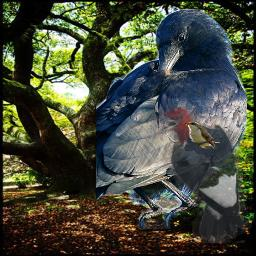Crow: (96, 9, 247, 229)
Cuckoo: (183, 119, 220, 149)
Woodpecker: (153, 102, 252, 243)
